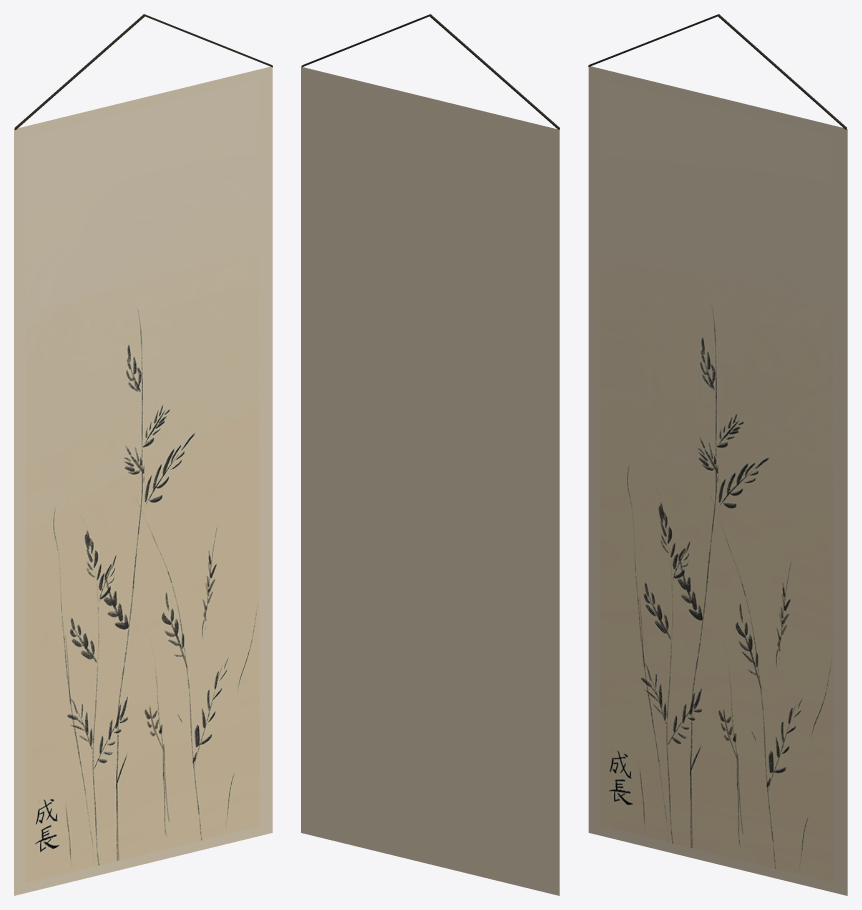
File: ukiyoe_Decor_Tapestry_Grow.fbx
3 views of the same model, side by side, from view 1: azimuth 30°, elevation 25°; view 2: azimuth 150°, elevation 25°; view 3: azimuth 330°, elevation 25° (orthographic).
Parts seen in each view (by area): view 1: tapestry_Grow; view 2: tapestry_Grow; view 3: tapestry_Grow.
Boxes of the visible parts, x1,y1,x2,y2 form: tapestry_Grow: (14, 14, 272, 895); tapestry_Grow: (301, 14, 559, 895); tapestry_Grow: (588, 14, 847, 895).
Bounding box in the file's own units: 54.51 × 171 × 0.4016.
